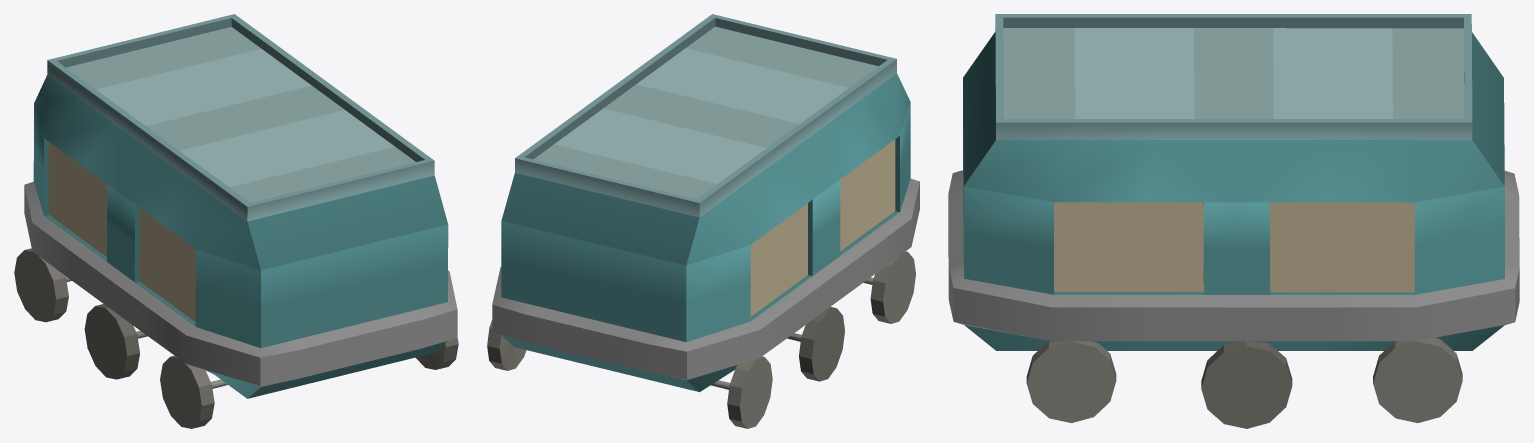
File: Train.fbx
3 views of the same model, side by side, from view 1: azimuth 30°, elevation 25°; view 2: azimuth 150°, elevation 25°; view 3: azimuth 270°, elevation 25° (orthographic). The views are drawn at different scales.
Parts seen in each view (by area): view 1: pCube1, pCylinder3, pCylinder2, pCylinder4; view 2: pCube1, pCylinder4, pCylinder2, pCylinder3; view 3: pCube1, pCylinder2, pCylinder4, pCylinder3.
Part boxes in pixels (x1,y1,x2,y2): pCube1: (24, 14, 457, 398); pCylinder3: (160, 338, 458, 428); pCylinder2: (84, 304, 147, 379); pCylinder4: (14, 248, 71, 322); pCube1: (492, 14, 919, 392); pCylinder4: (487, 320, 772, 428); pCylinder2: (787, 306, 844, 381); pCylinder3: (863, 251, 915, 323); pCube1: (948, 14, 1519, 350); pCylinder2: (1201, 341, 1292, 428); pCylinder4: (1373, 338, 1462, 422); pCylinder3: (1026, 341, 1116, 422).
Bounding box in the file's own units: 3.55 × 3.08 × 5.6.
